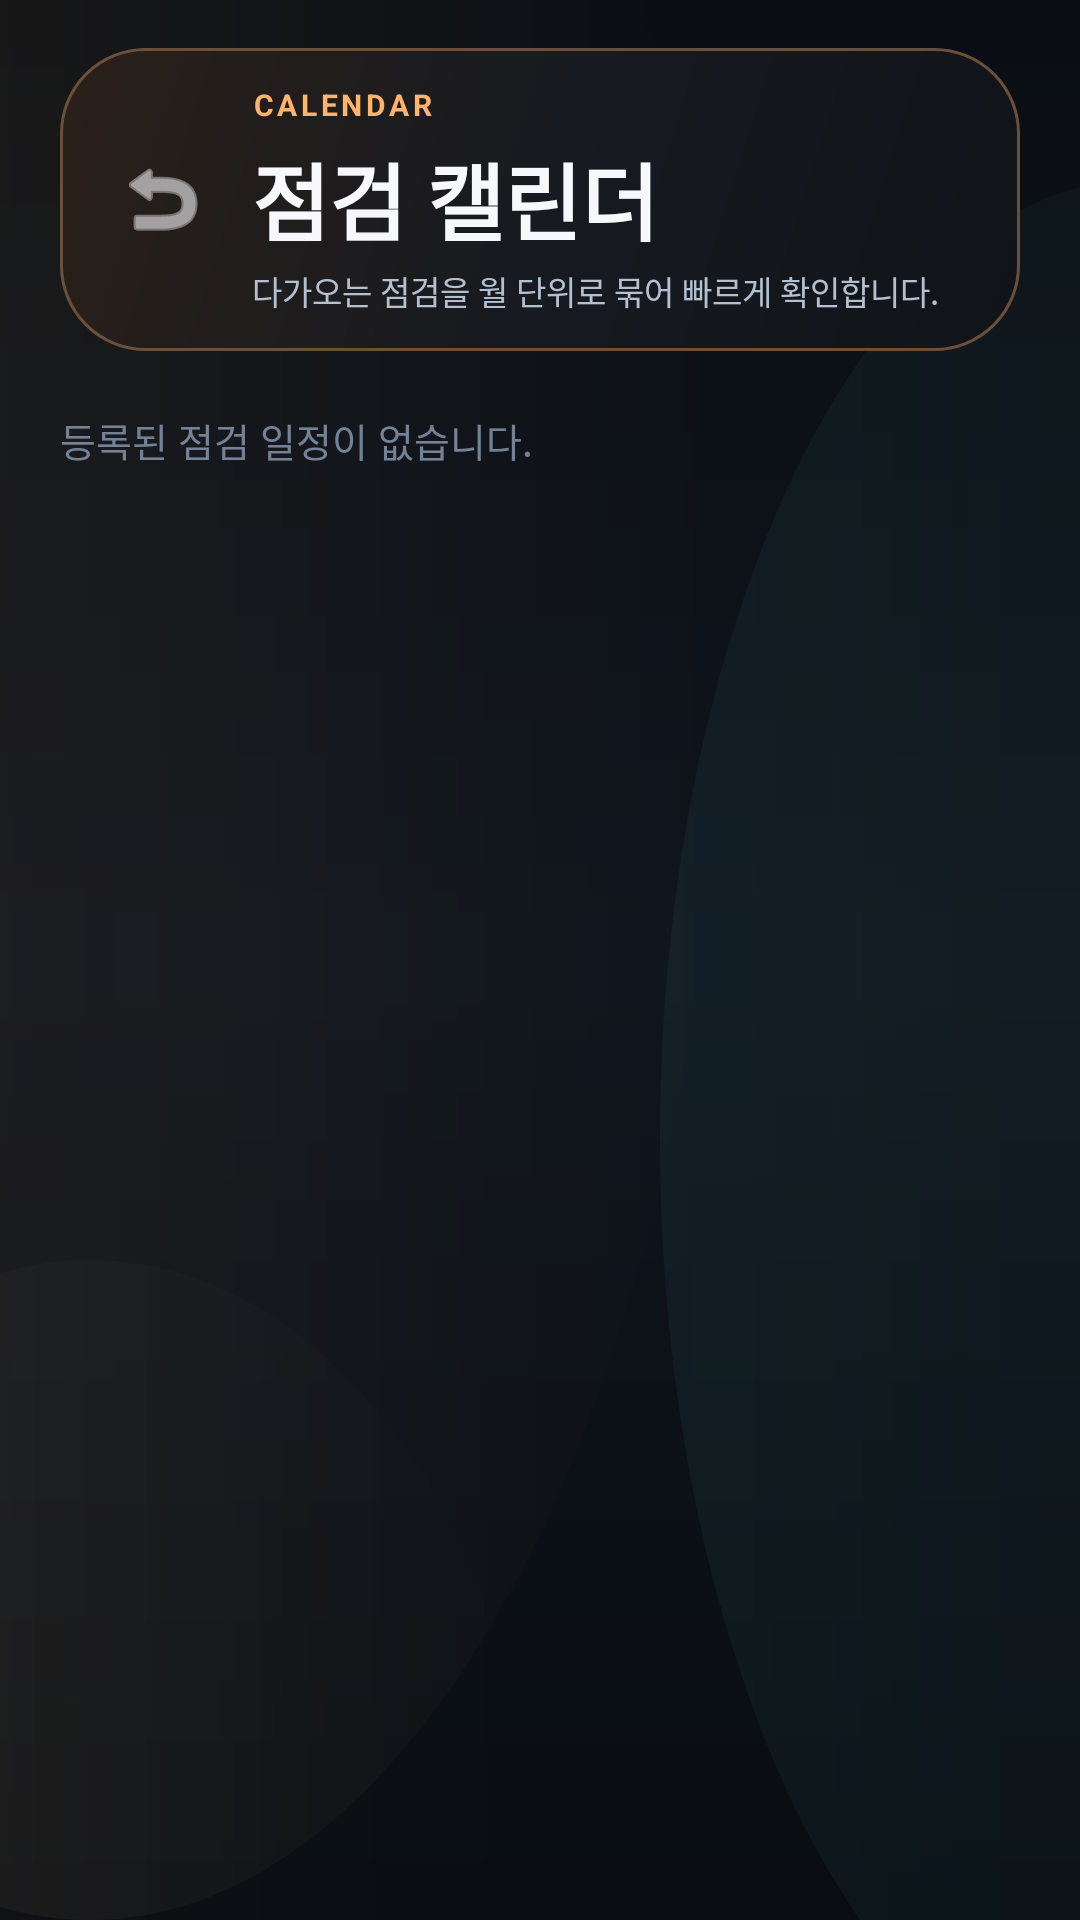

Screen size 1080×1920. Icon name, then its box in pixels as {"left": x1, "top": y1, "right": x2, "bottom": y2}:
revert: {"left": 129, "top": 168, "right": 198, "bottom": 231}
